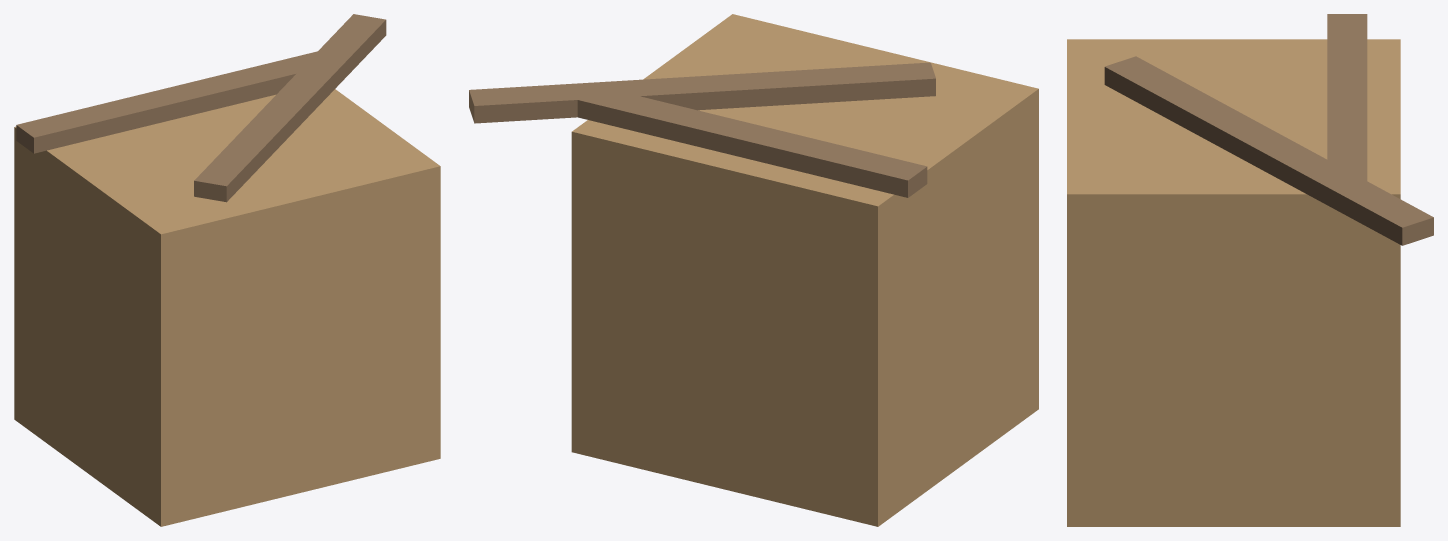
File: prop_wooden_loot_crate.glb
The picture shows the model from 3 angles, left to right: view 1: azimuth 30°, elevation 25°; view 2: azimuth 150°, elevation 25°; view 3: azimuth 270°, elevation 25°; orthographic projection. The views are drawn at different scales.
Visible parts, largest first — view 1: crate_body, brace_h, brace_diag; view 2: crate_body, brace_diag, brace_h; view 3: crate_body, brace_diag, brace_h.
Part boxes in pixels (left/top/right/bottom): crate_body: left=14, top=89, right=440, bottom=526; brace_h: left=16, top=50, right=336, bottom=153; brace_diag: left=194, top=14, right=386, bottom=202; crate_body: left=571, top=14, right=1038, bottom=526; brace_diag: left=469, top=62, right=935, bottom=123; brace_h: left=575, top=85, right=927, bottom=197; crate_body: left=1067, top=39, right=1400, bottom=526; brace_diag: left=1104, top=56, right=1433, bottom=245; brace_h: left=1327, top=14, right=1367, bottom=183.
Size of the model in its own units: 1.52 by 1.16 by 1.1.
